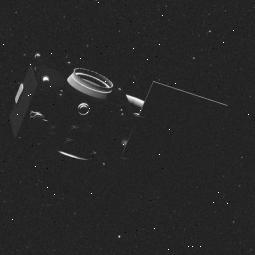proba_3_csc: (11, 70, 227, 168)
